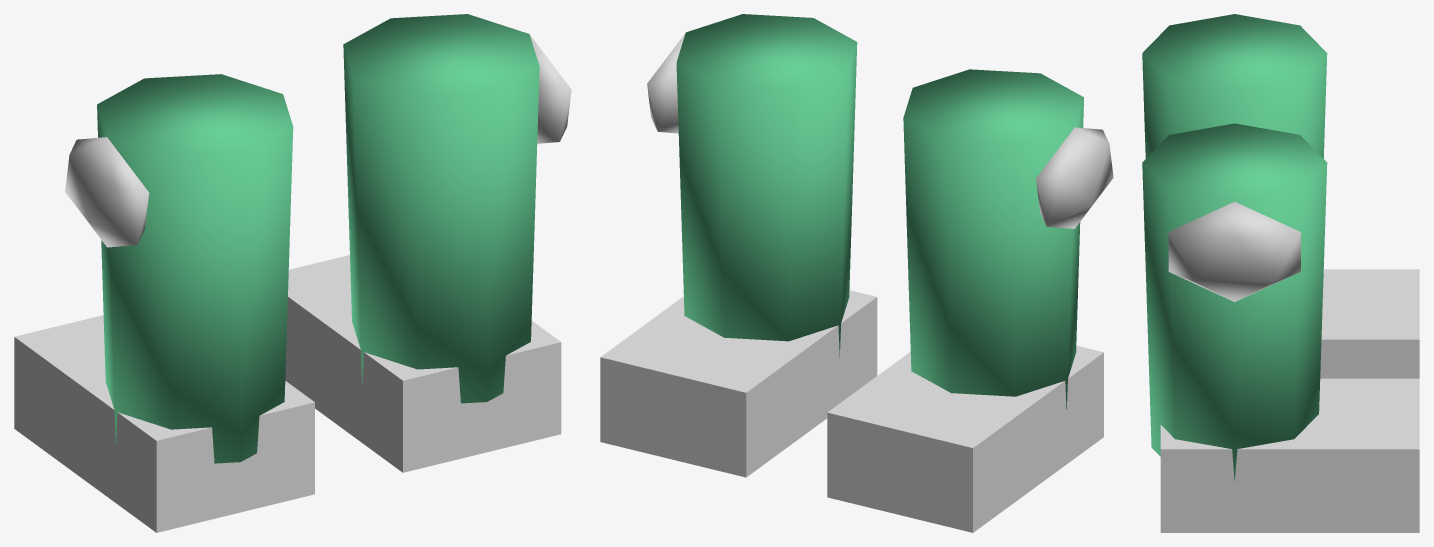
The model's file is terraspark_boots.glb.
The picture shows the model from 3 angles, left to right: view 1: azimuth 30°, elevation 25°; view 2: azimuth 150°, elevation 25°; view 3: azimuth 270°, elevation 25°; orthographic projection. The views are drawn at different scales.
Parts seen in each view (by area): view 1: terraspark_boots_v0; view 2: terraspark_boots_v0; view 3: terraspark_boots_v0.
Part boxes in pixels (x1,y1,x2,y2): terraspark_boots_v0: [14, 14, 571, 532]; terraspark_boots_v0: [600, 14, 1113, 532]; terraspark_boots_v0: [1142, 14, 1419, 532].
Bounding box in the file's own units: 0.2615 × 0.2 × 0.15.
